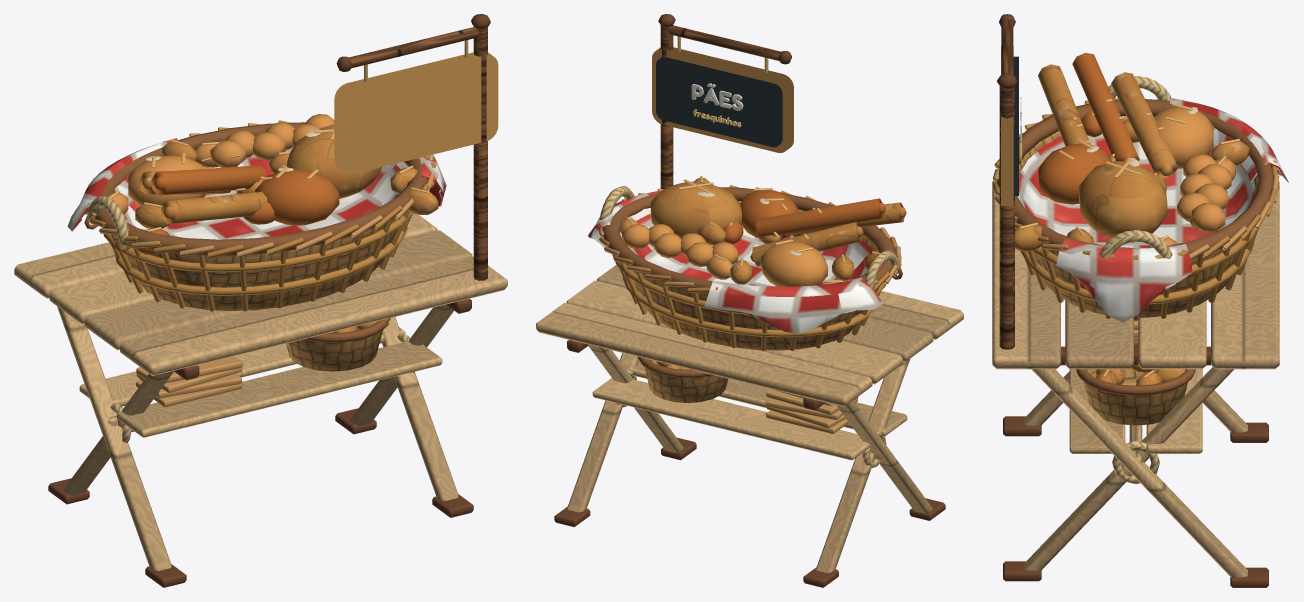
File: bread-basket.fbx
3 renders of one model, left to right at view 1: azimuth 30°, elevation 25°; view 2: azimuth 150°, elevation 25°; view 3: azimuth 270°, elevation 25°, orthographic. The views are drawn at different scales.
Visible parts, largest first — view 1: Body, Anim Fill 0, Anim Fill 1; view 2: Body, Anim Fill 0, Anim Fill 1; view 3: Body, Anim Fill 0, Anim Fill 1.
Boxes of the visible parts, <box> form: Body: <box>14,14,507,587</box>; Anim Fill 0: <box>195,114,438,225</box>; Anim Fill 1: <box>108,139,276,254</box>; Body: <box>536,14,963,587</box>; Anim Fill 0: <box>620,176,799,279</box>; Anim Fill 1: <box>730,198,906,286</box>; Body: <box>992,14,1288,587</box>; Anim Fill 0: <box>1015,139,1235,251</box>; Anim Fill 1: <box>1038,52,1249,178</box>.
Size of the model in its own units: 1 by 1.32 by 0.6931.
